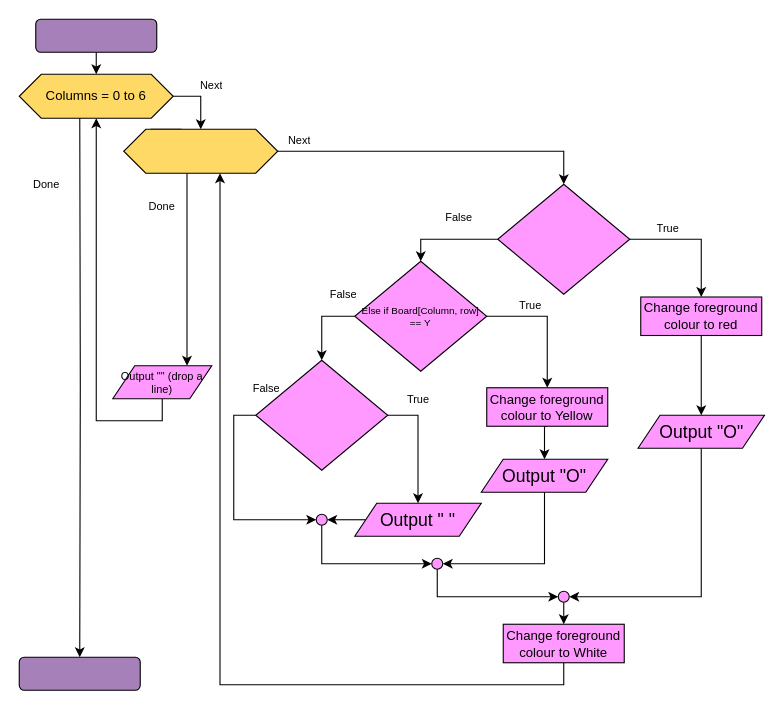
This 784x713 diagram has some shape labels left out. Each missing label, with the box of its shape:
Else: (255, 359, 388, 470)
End: (18, 656, 140, 690)
If Board[Column, Row] == 'R': (497, 183, 630, 294)
Rows = 0 to 6: (123, 128, 278, 173)
Start: (35, 18, 157, 52)
